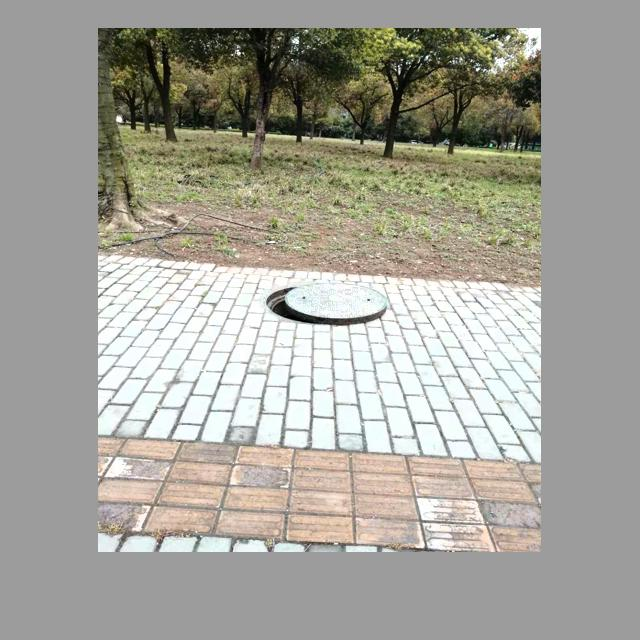uncovered: (257, 272, 400, 325)
